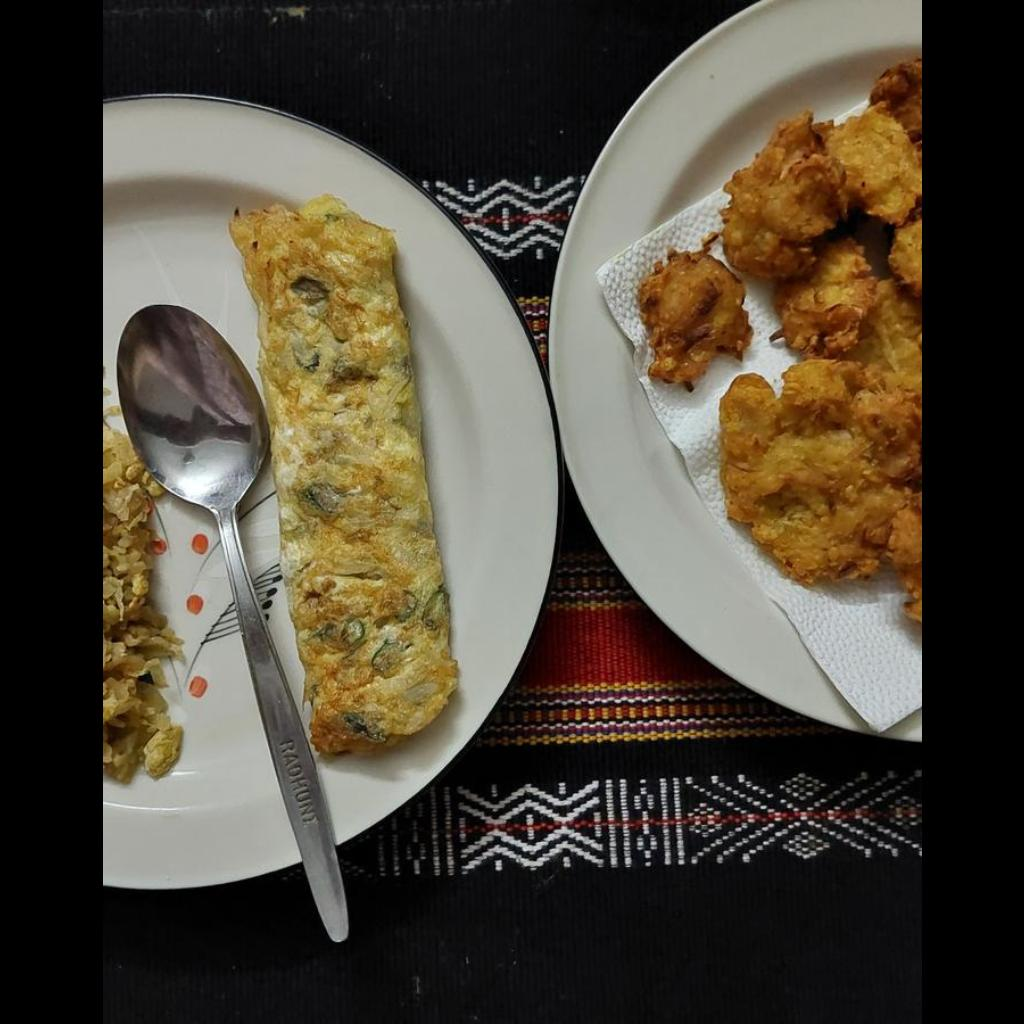egg-poached: (225, 197, 459, 760)
piyaju: (639, 53, 919, 628)
vaji: (102, 419, 181, 782)
